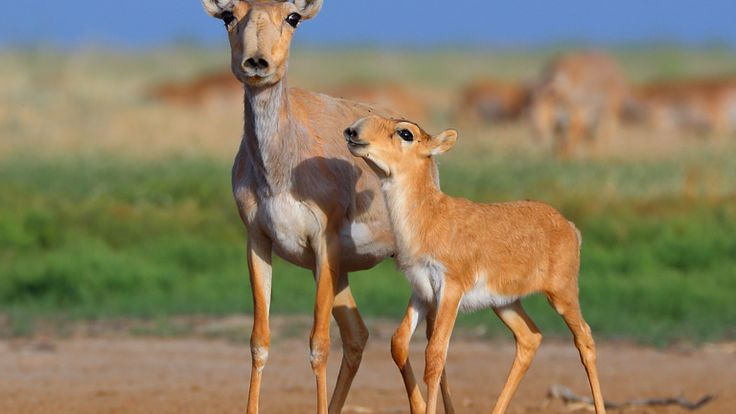saiga: (187, 1, 456, 414), (343, 115, 603, 414)
